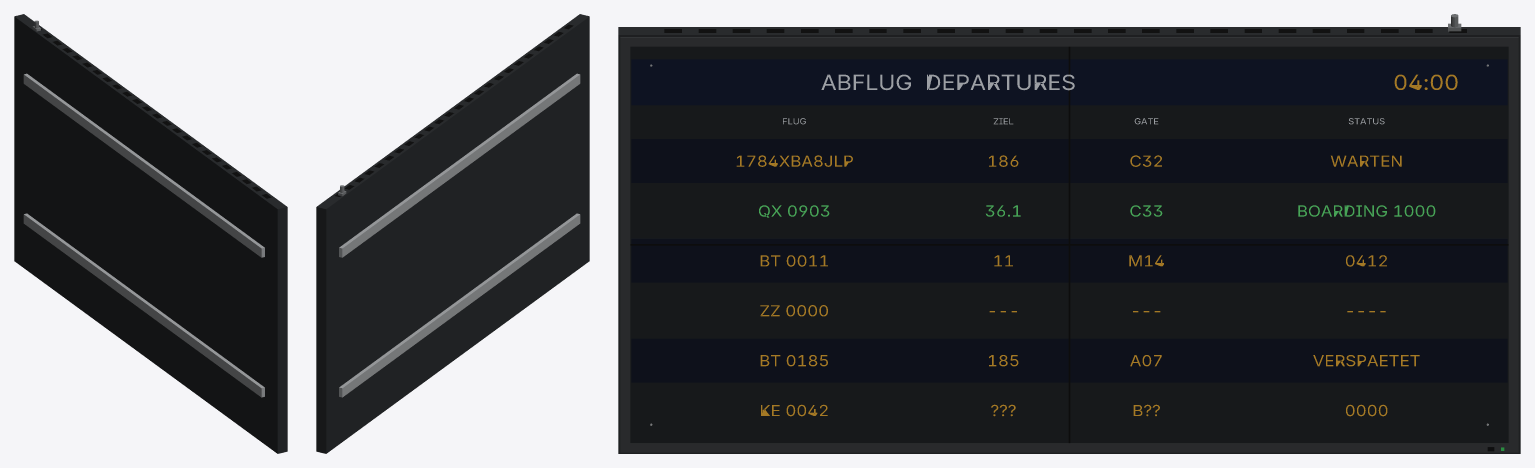
Rendered from departure_board.glb.
3 views of the same model, side by side, from view 1: azimuth 30°, elevation 25°; view 2: azimuth 150°, elevation 25°; view 3: azimuth 270°, elevation 25° (orthographic). The views are drawn at different scales.
Visible parts, largest first — view 1: tafel_1, tafel_0, tafel_4; view 2: tafel_1, tafel_0, tafel_4; view 3: tafel_3, tafel_6, tafel_5, tafel_2, tafel_1, tafel_4, kopf.
Part boxes in pixels (box(x1,y1,x2,y2)): tafel_1: box(14, 14, 287, 453); tafel_0: box(23, 73, 264, 397); tafel_4: box(41, 29, 271, 198); tafel_1: box(316, 14, 589, 453); tafel_0: box(339, 73, 580, 397); tafel_4: box(335, 24, 573, 196); tafel_3: box(630, 46, 1508, 443); tafel_6: box(631, 139, 1507, 382); tafel_5: box(631, 59, 1507, 105); tafel_2: box(620, 37, 1518, 452); tafel_1: box(618, 27, 1520, 453); tafel_4: box(630, 29, 1508, 443); kopf: box(821, 74, 1074, 90).
Size of the model in its own units: 0.1287 by 2.17 by 4.1.
